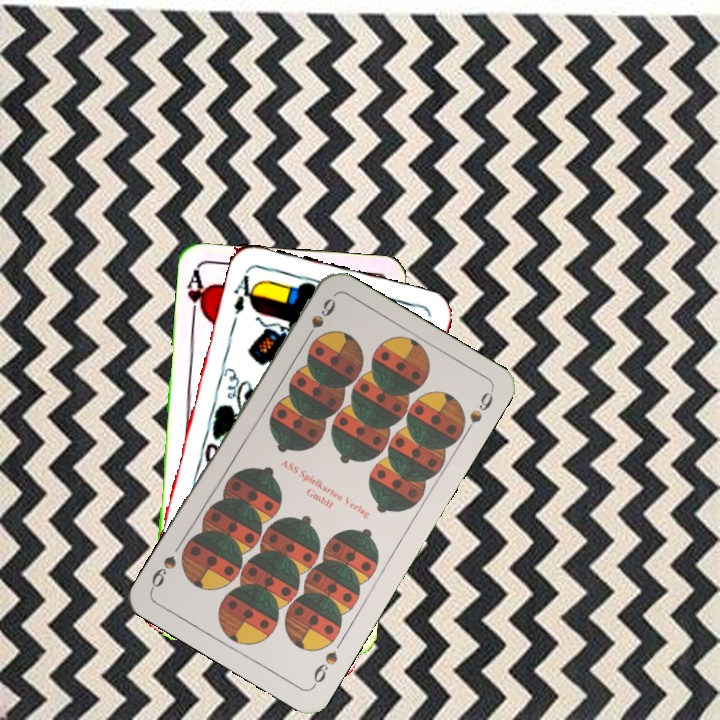EA: (229, 267, 260, 317)
HA: (183, 265, 210, 325)
S9: (299, 293, 339, 346), (308, 647, 341, 690)
